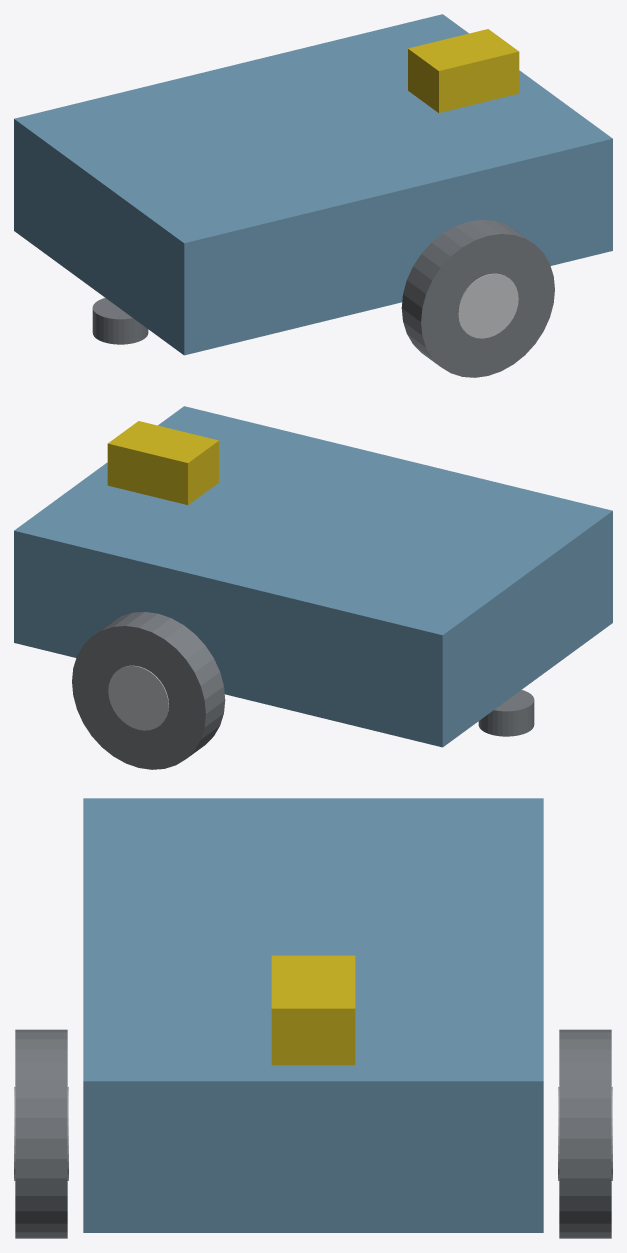
3 renders of one model, top to bottom at view 1: azimuth 30°, elevation 25°; view 2: azimuth 150°, elevation 25°; view 3: azimuth 270°, elevation 25°, orthographic. The views are drawn at different scales.
Visible parts, largest first — view 1: chassis, right_wheel; view 2: chassis, left_wheel; view 3: chassis, left_wheel, right_wheel.
Boxes of the visible parts, x1,y1,x2,y2 form: chassis: (14, 14, 612, 355); right_wheel: (401, 220, 554, 377); chassis: (14, 406, 612, 747); left_wheel: (72, 612, 225, 769); chassis: (83, 798, 543, 1232); left_wheel: (558, 1029, 612, 1238); right_wheel: (14, 1029, 68, 1238).
Size of the model in its own units: 0.322 by 0.16 by 0.2862.
